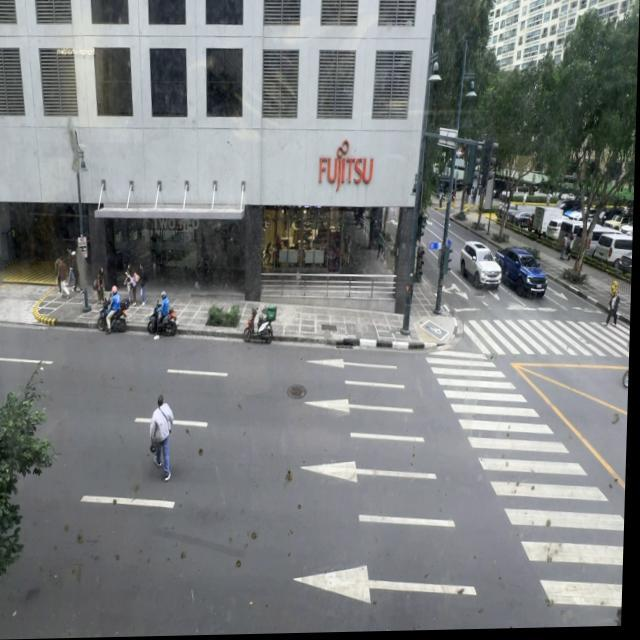jaywalking: (149, 392, 174, 480)
